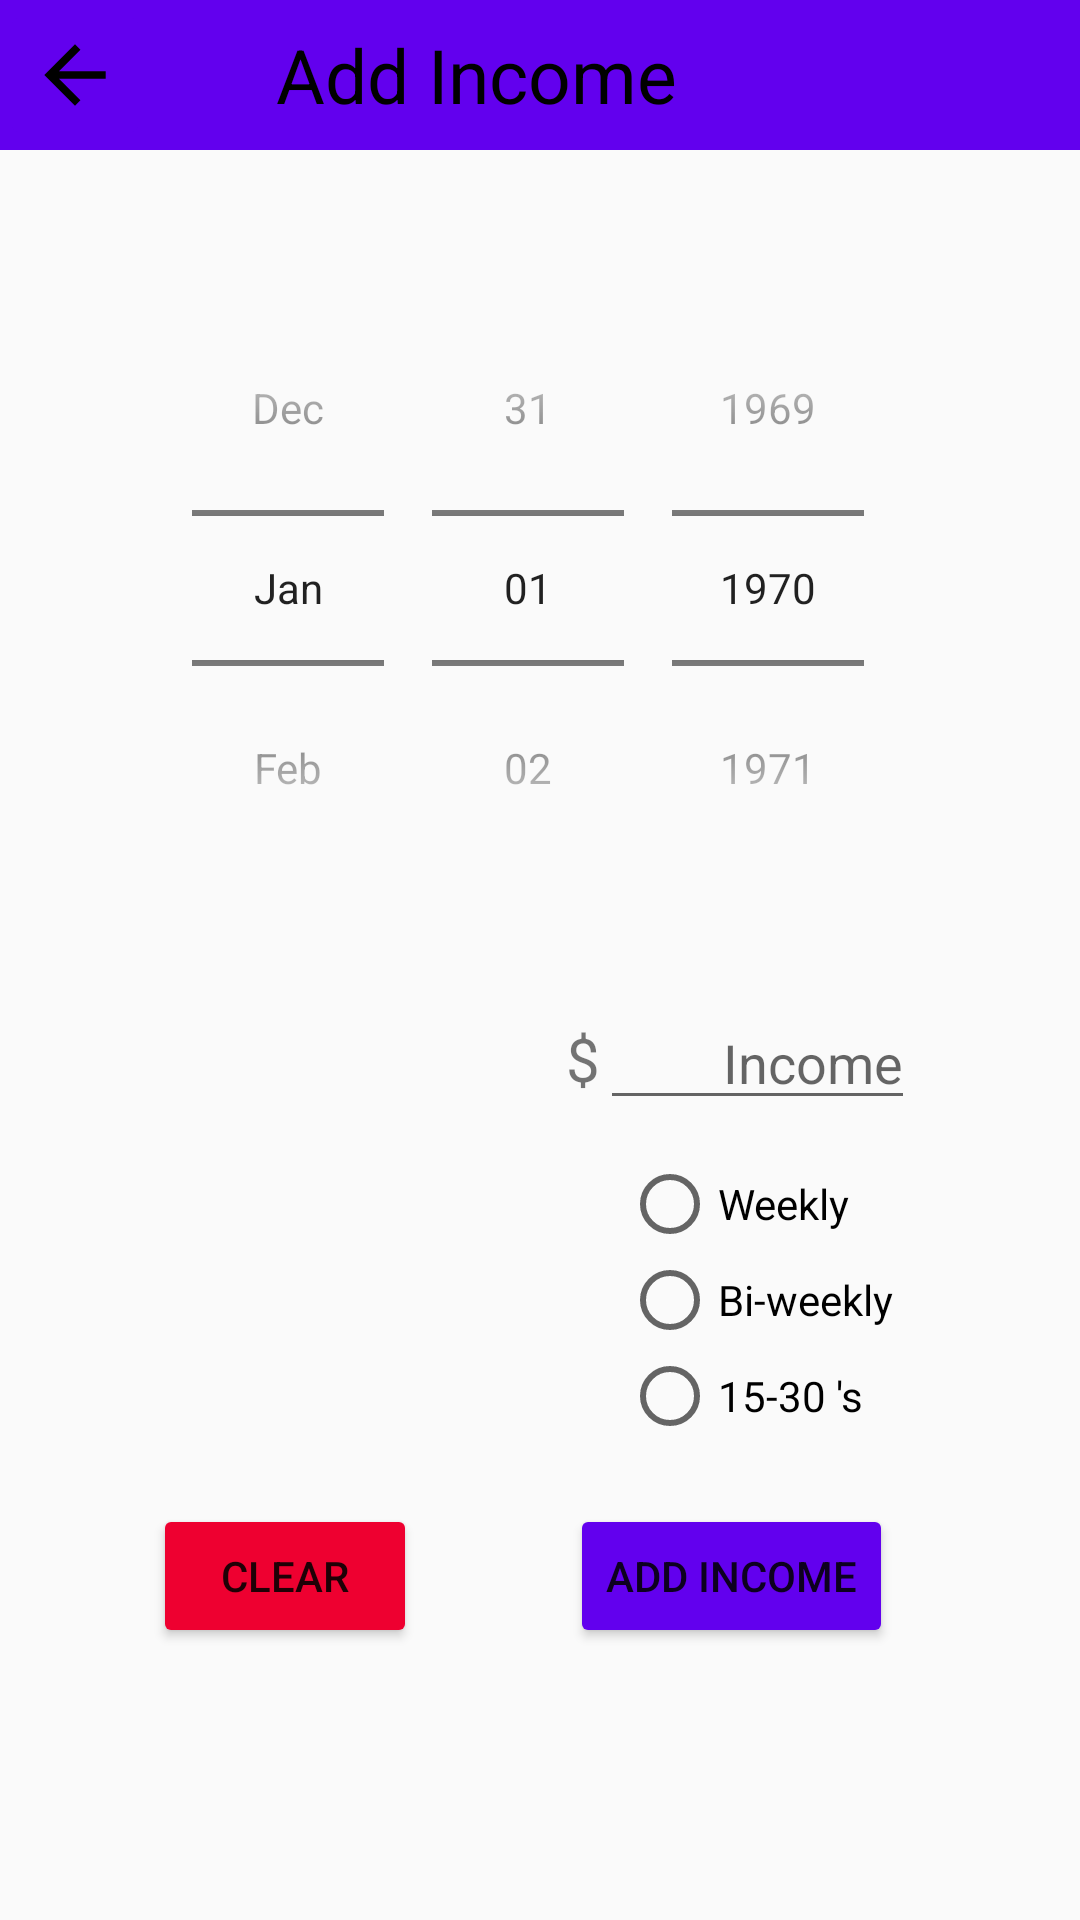

Point at icon controls on the screen. Image size 1080 x 1920, points as [x,y].
back arrow: [75,75]
